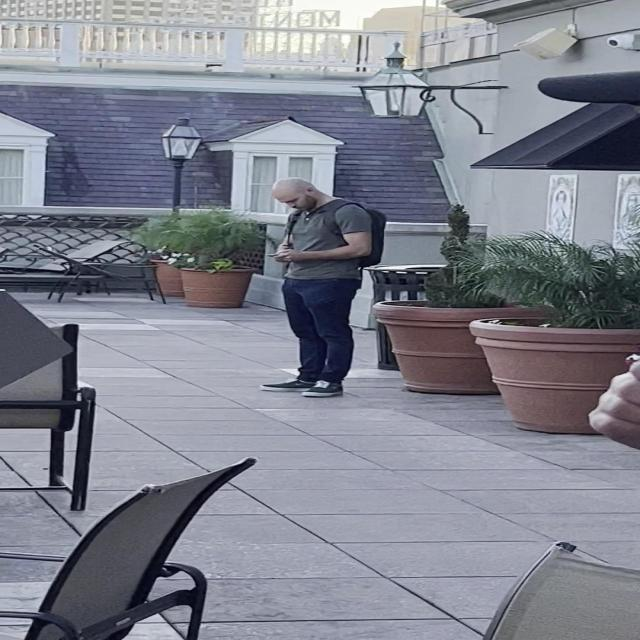NO-Mask: (271, 190, 315, 212)
